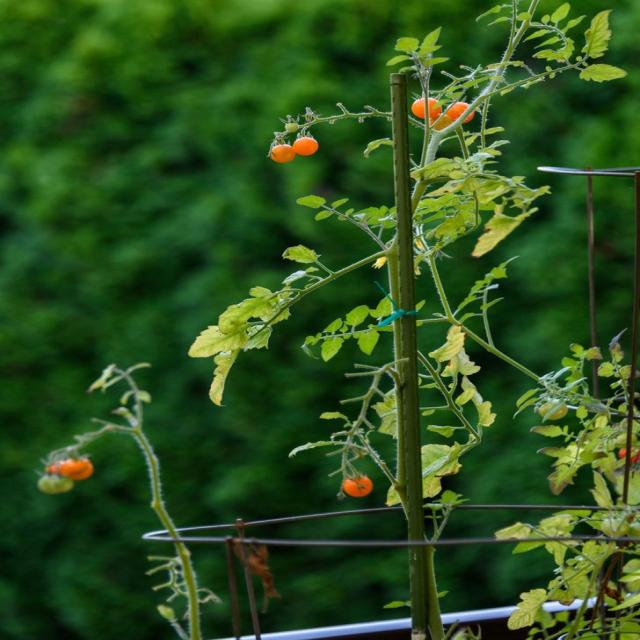level 2: (38, 475, 74, 494), (537, 400, 568, 418), (285, 121, 303, 133)
level 5: (46, 457, 93, 479), (444, 101, 475, 126), (411, 98, 443, 121), (343, 475, 373, 496), (268, 144, 294, 164), (294, 138, 320, 157), (618, 442, 640, 462)
